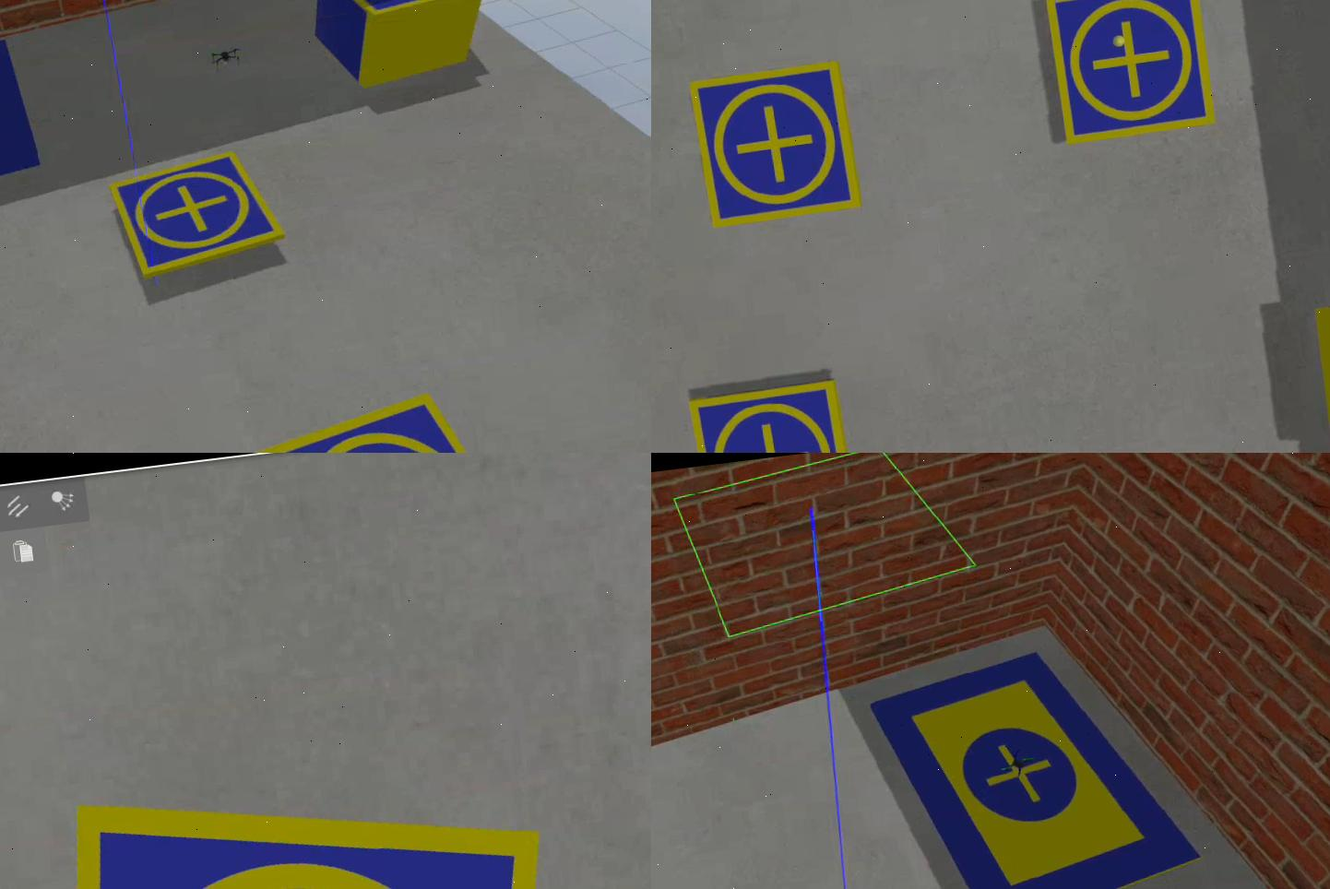large_base: (864, 634, 1210, 889)
small_base: (28, 744, 593, 889), (685, 56, 864, 232), (1047, 1, 1217, 149), (109, 147, 291, 281), (258, 384, 557, 454), (690, 377, 861, 454), (318, 1, 486, 26)
